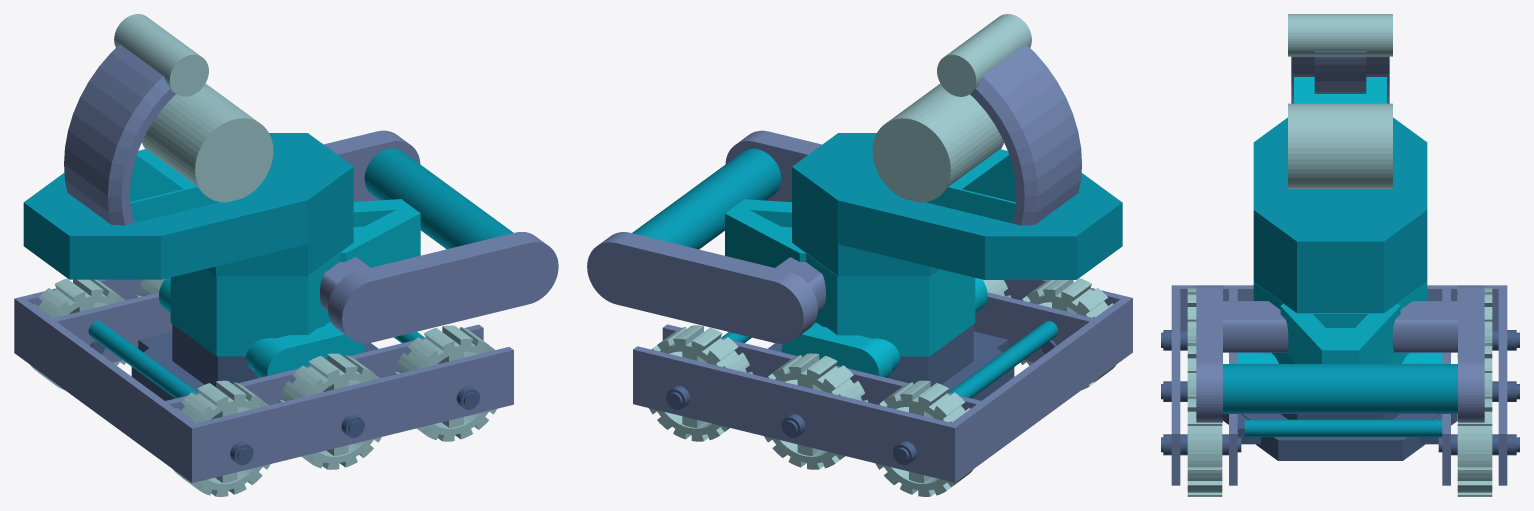
The model's file is bot-tank-blue-shooter.glb.
The picture shows the model from 3 angles, left to right: view 1: azimuth 30°, elevation 25°; view 2: azimuth 150°, elevation 25°; view 3: azimuth 270°, elevation 25°; orthographic projection. The views are drawn at different scales.
Parts seen in each view (by area): view 1: Mesh_Mesh_head_geo.001_lambert2SG.001; view 2: Mesh_Mesh_head_geo.001_lambert2SG.001; view 3: Mesh_Mesh_head_geo.001_lambert2SG.001.
Part boxes in pixels (x1=…): Mesh_Mesh_head_geo.001_lambert2SG.001: x1=14, y1=14, x2=558, y2=496; Mesh_Mesh_head_geo.001_lambert2SG.001: x1=587, y1=14, x2=1132, y2=496; Mesh_Mesh_head_geo.001_lambert2SG.001: x1=1161, y1=14, x2=1519, y2=496.
Size of the model in its own units: 0.0312 by 0.0273 by 0.0236.
